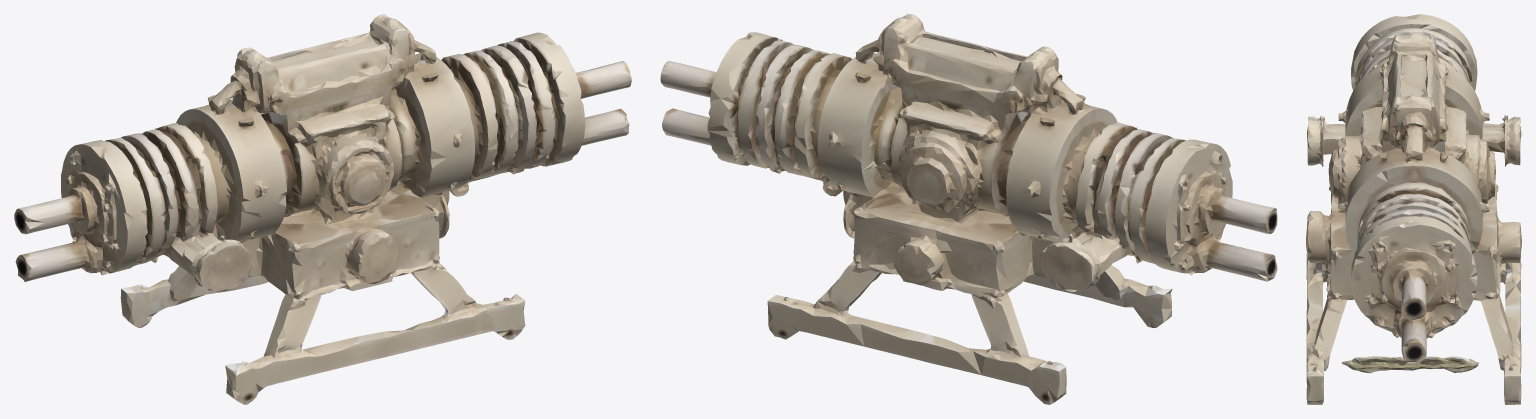
The model's file is machinegun.glb.
3 renders of one model, left to right at view 1: azimuth 30°, elevation 25°; view 2: azimuth 150°, elevation 25°; view 3: azimuth 270°, elevation 25°, orthographic. The views are drawn at different scales.
Visible parts, largest first — view 1: machinegun; view 2: machinegun; view 3: machinegun.
Boxes of the visible parts, x1=… form: machinegun: x1=14, y1=14, x2=631, y2=404; machinegun: x1=660, y1=14, x2=1277, y2=404; machinegun: x1=1306, y1=14, x2=1521, y2=404.
Size of the model in its own units: 1.89 by 0.8827 by 0.6201.
Materials: 1 (1 with a texture image).
